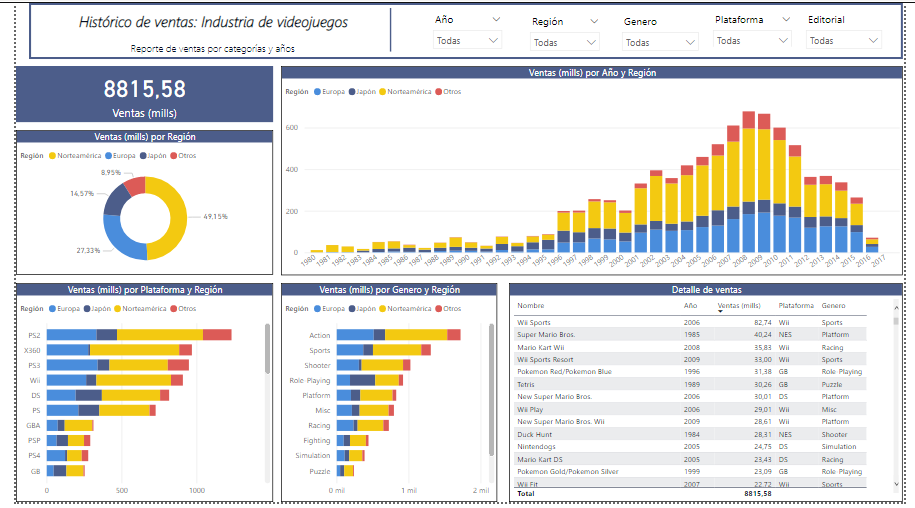

Layout of this report page (visuals, bound fields, positions):
{"tool":"powerbi","page":{"name":"Reporte Ventas","canvas":[1280,720],"ordinal":0},"visuals":[{"type":"shape","box":[18.8,0,1261.1,80.8],"z":0},{"type":"tableEx","title":"Detalle de ventas","fields":{"Values":["Ventas Videojuegos.Nombre","Ventas Videojuegos.Año","Sum(Ventas Videojuegos.Ventas (mills))","Ventas Videojuegos.Plataforma","Ventas Videojuegos.Genero"]},"box":[711.3,404,568.5,316],"z":1000},{"type":"columnChart","fields":{"Category":["Ventas Videojuegos.Año"],"Y":["Sum(Ventas Videojuegos.Ventas (mills))"],"Series":["Ventas Videojuegos.Región"]},"box":[382.4,90.9,897.5,301.6],"z":2000},{"type":"donutChart","fields":{"Category":["Ventas Videojuegos.Región"],"Y":["Sum(Ventas Videojuegos.Ventas (mills))"]},"box":[0,183.2,370.8,209.2],"z":3000},{"type":"barChart","fields":{"Y":["Sum(Ventas Videojuegos.Ventas (mills))"],"Series":["Ventas Videojuegos.Región"],"Category":["Ventas Videojuegos.Plataforma"]},"box":[0,404,370.8,316],"z":4000},{"type":"barChart","fields":{"Y":["Sum(Ventas Videojuegos.Ventas (mills))"],"Series":["Ventas Videojuegos.Región"],"Category":["Ventas Videojuegos.Genero"]},"box":[382.4,404,311.7,316],"z":5000},{"type":"card","fields":{"Values":["Sum(Ventas Videojuegos.Ventas (mills))"]},"box":[0,90.9,370.8,80.8],"z":7000},{"type":"slicer","fields":{"Values":["Ventas Videojuegos.Año"]},"box":[591.6,7.2,119.8,63.5],"z":8000},{"type":"slicer","fields":{"Values":["Ventas Videojuegos.Región"]},"box":[731.5,10.1,121.2,63.5],"z":9000},{"type":"slicer","fields":{"Values":["Ventas Videojuegos.Genero"]},"box":[864.3,10.1,131.3,63.5],"z":10000},{"type":"slicer","fields":{"Values":["Ventas Videojuegos.Editorial"]},"box":[1129.8,7.2,129.9,63.5],"z":11000},{"type":"slicer","fields":{"Values":["Ventas Videojuegos.Plataforma"]},"box":[995.6,7.2,134.2,56.3],"z":12000},{"type":"textbox","box":[50.5,7.2,468.9,43.3],"z":15000},{"type":"textbox","box":[60.6,50.5,445.9,30.3],"z":15001},{"type":"shape","box":[506.5,7.2,67.8,63.5],"z":15002}]}

Visuals, with their boxes in screenshot pixels (x1, y1, x2, y2), scaled from the page's 1280x720 canvas onto the 915x508 screenshot:
shape: l=13, t=0, r=914, b=57
"Detalle de ventas" tableEx: l=508, t=285, r=914, b=507
columnChart - Ventas Videojuegos.Año x Sum(Ventas Videojuegos.Ventas (mills)): l=273, t=64, r=914, b=277
donutChart - Ventas Videojuegos.Región x Sum(Ventas Videojuegos.Ventas (mills)): l=0, t=129, r=265, b=277
barChart - Sum(Ventas Videojuegos.Ventas (mills)) x Ventas Videojuegos.Región: l=0, t=285, r=265, b=507
barChart - Sum(Ventas Videojuegos.Ventas (mills)) x Ventas Videojuegos.Región: l=273, t=285, r=496, b=507
card - Sum(Ventas Videojuegos.Ventas (mills)): l=0, t=64, r=265, b=121
slicer - Ventas Videojuegos.Año: l=423, t=5, r=509, b=50
slicer - Ventas Videojuegos.Región: l=523, t=7, r=610, b=52
slicer - Ventas Videojuegos.Genero: l=618, t=7, r=712, b=52
slicer - Ventas Videojuegos.Editorial: l=808, t=5, r=900, b=50
slicer - Ventas Videojuegos.Plataforma: l=712, t=5, r=808, b=45
textbox: l=36, t=5, r=371, b=36
textbox: l=43, t=36, r=362, b=57
shape: l=362, t=5, r=411, b=50
